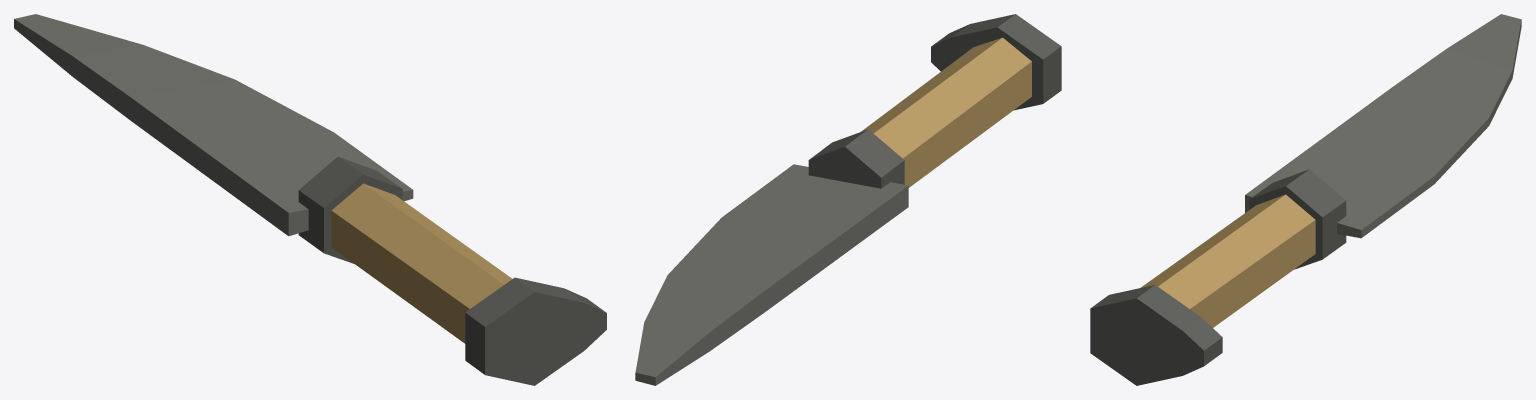
Rendered from knife.gltf.
The picture shows the model from 3 angles, left to right: view 1: azimuth 30°, elevation 25°; view 2: azimuth 150°, elevation 25°; view 3: azimuth 330°, elevation 25°; orthographic projection. The views are drawn at different scales.
Visible parts, largest first — view 1: Knife; view 2: Knife; view 3: Knife.
Boxes of the visible parts, x1,y1,x2,y2 form: Knife: [14, 14, 606, 385]; Knife: [635, 14, 1061, 385]; Knife: [1090, 14, 1521, 385].
Bounding box in the file's own units: 0.0529 × 0.0352 × 0.3048.
3 materials, 3 textured.
